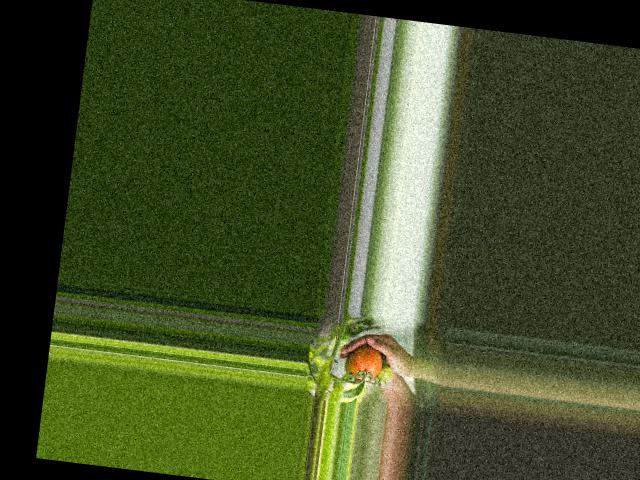tomato: (348, 344, 384, 381)
